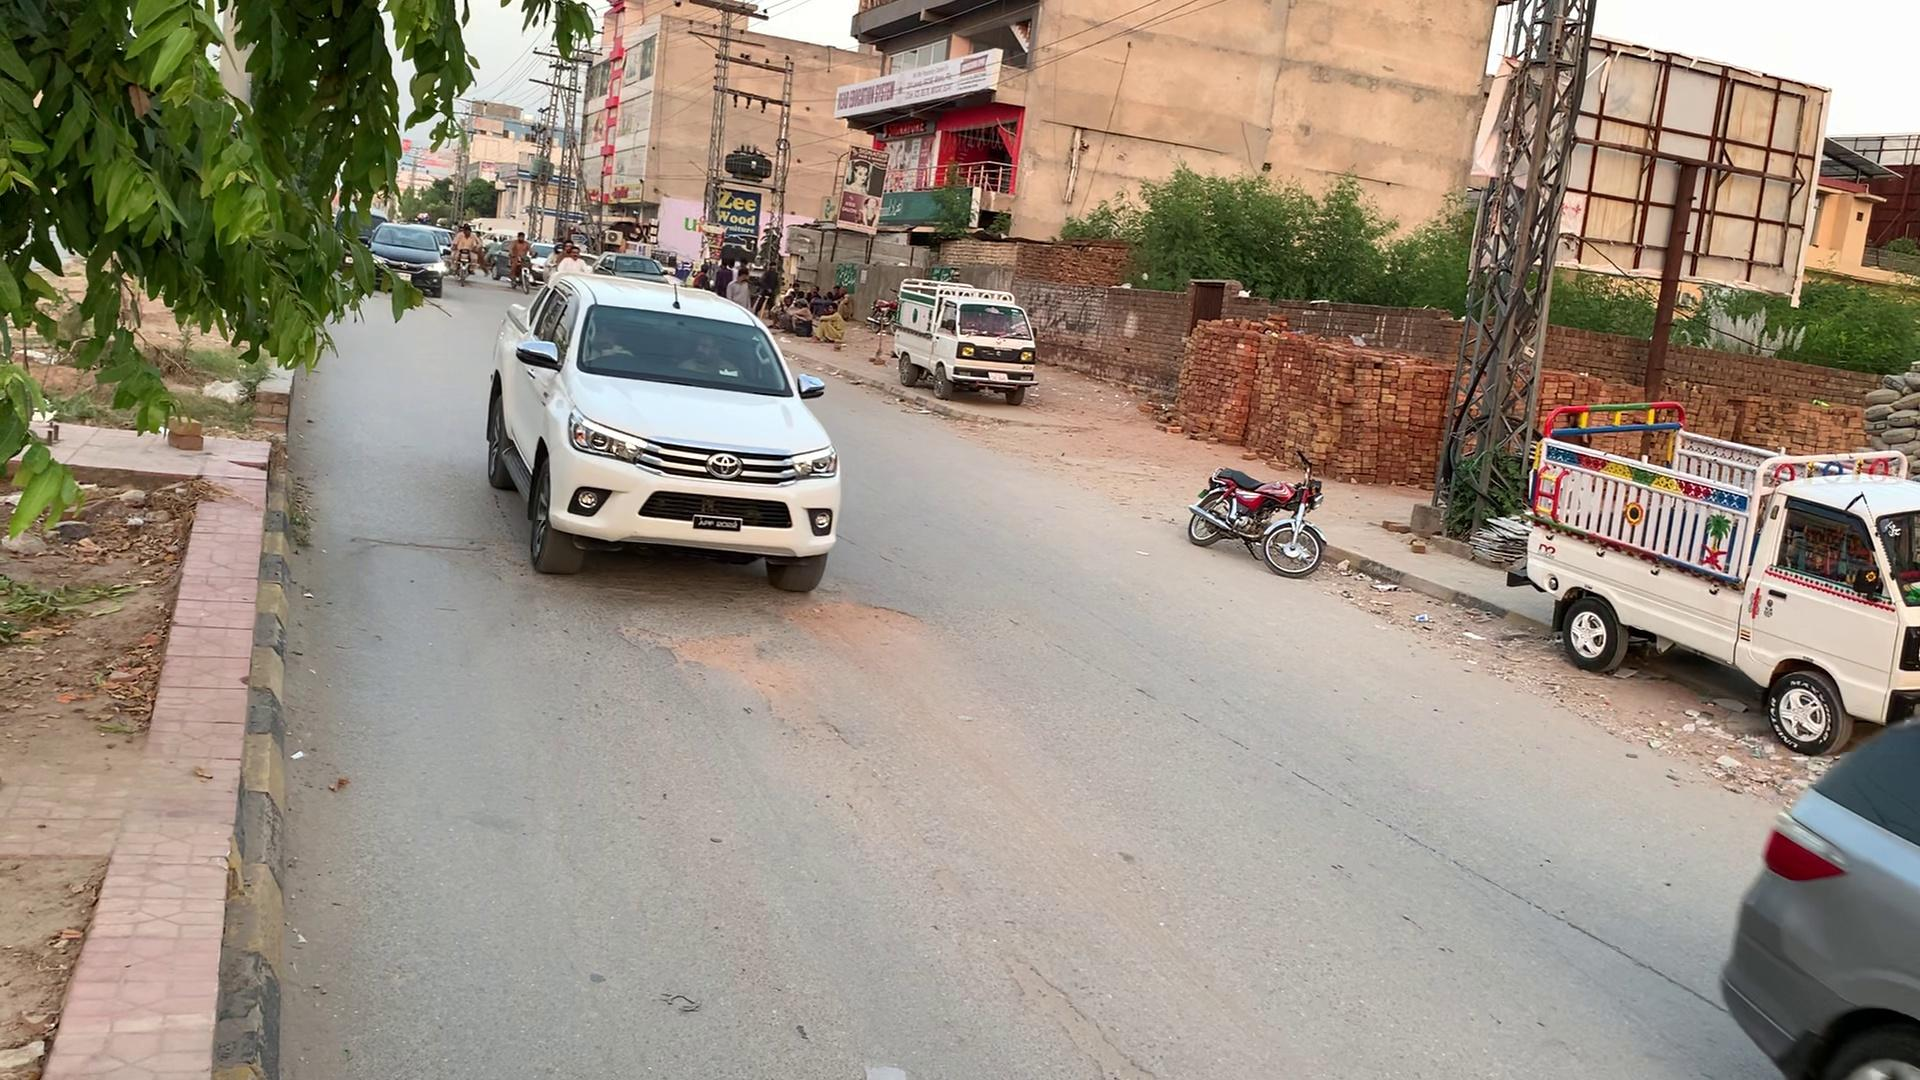windshield: (564, 286, 800, 406)
